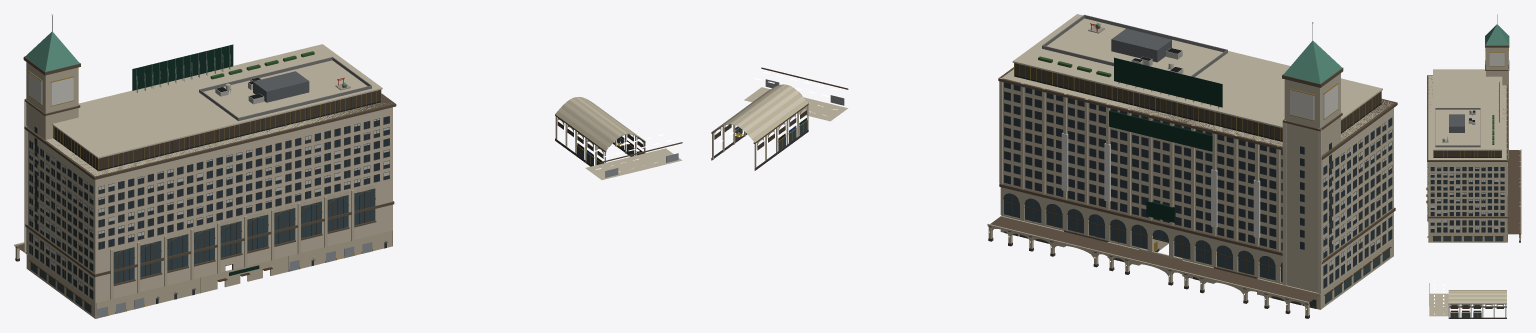
The model's file is mioya.glb.
3 renders of one model, left to right at view 1: azimuth 30°, elevation 25°; view 2: azimuth 150°, elevation 25°; view 3: azimuth 270°, elevation 25°, orthographic. The views are drawn at different scales.
Visible parts, largest first — view 1: mioya_store_body, mioya_hall_body; view 2: mioya_store_body, mioya_hall_body; view 3: mioya_store_body, mioya_hall_body.
Boxes of the visible parts, box(x1,y1,x2,y2) form: mioya_store_body: box(14, 14, 396, 318); mioya_hall_body: box(555, 97, 682, 179); mioya_store_body: box(987, 14, 1397, 318); mioya_hall_body: box(711, 67, 848, 170); mioya_store_body: box(1426, 14, 1521, 242); mioya_hall_body: box(1429, 283, 1506, 318).
Size of the model in its own units: 234 by 97.4 by 56.54.
